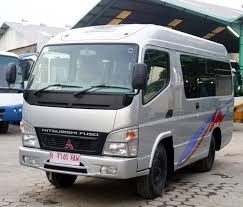plate: (49, 151, 80, 165)
